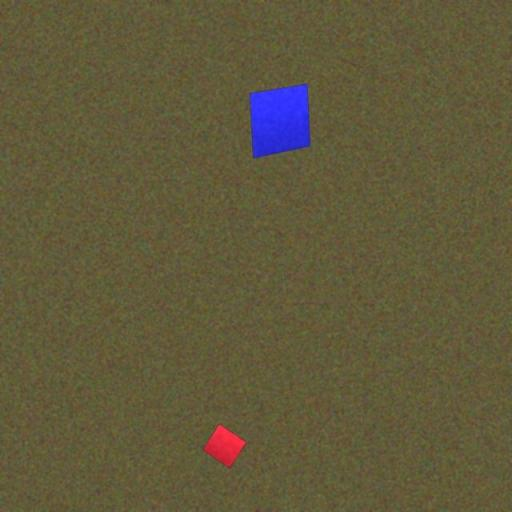BLUE_SQUARE: (249, 84, 311, 158)
RED_SQUARE: (202, 423, 247, 470)
